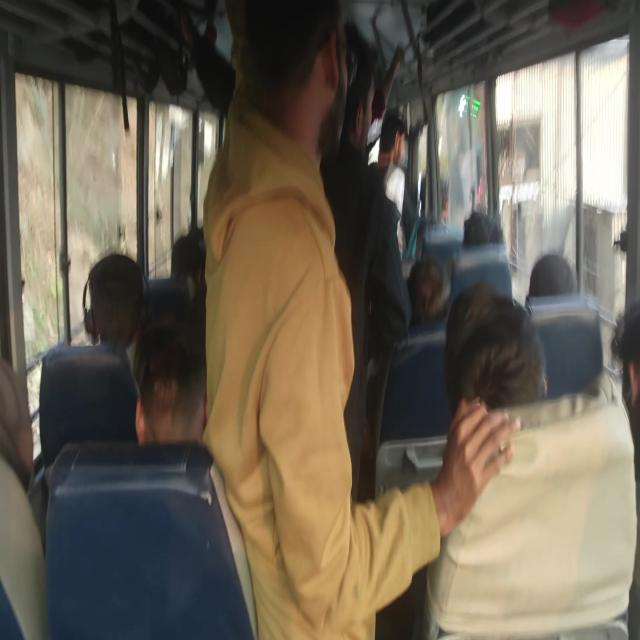person: (201, 0, 525, 638), (422, 282, 638, 638), (319, 20, 412, 503), (133, 323, 258, 637), (444, 281, 548, 415), (0, 356, 48, 639), (133, 323, 207, 445), (82, 252, 147, 381)
